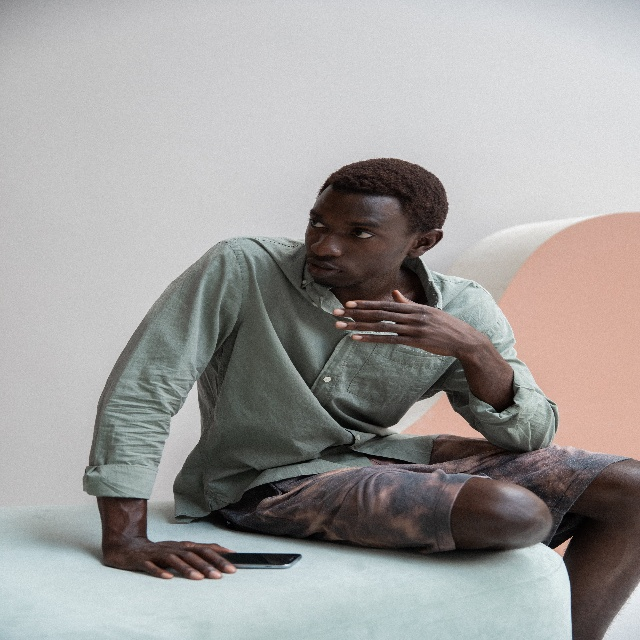Sin_guantes: (330, 284, 479, 366), (105, 533, 236, 584)
